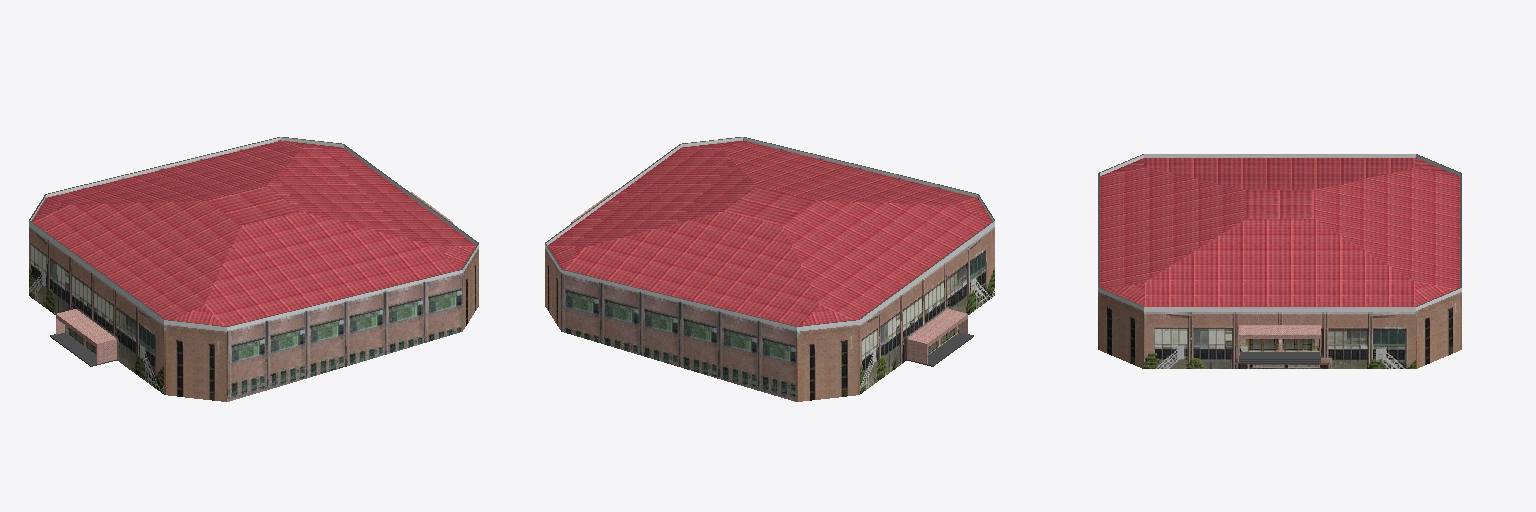
3 renders of one model, left to right at view 1: azimuth 30°, elevation 25°; view 2: azimuth 150°, elevation 25°; view 3: azimuth 270°, elevation 25°, orthographic.
Visible parts, largest first — view 1: VMtl1729, VMtl1249, VMtl1247, VMtl1730, VMtl1245, VMtl1253, VMtl1248, VMtl1252; view 2: VMtl1729, VMtl1249, VMtl1730, VMtl1247, VMtl1245, VMtl1253, VMtl1248, VMtl1252; view 3: VMtl1729, VMtl1247, VMtl1730, VMtl1245, VMtl1253, VMtl1251, VMtl1252, VMtl1248.
Part boxes in pixels (x1,y1,x2,y2): VMtl1729: (32, 141, 475, 325); VMtl1249: (45, 137, 462, 401); VMtl1247: (29, 146, 477, 393); VMtl1730: (48, 141, 302, 204); VMtl1245: (30, 137, 478, 401); VMtl1253: (56, 192, 452, 363); VMtl1248: (29, 137, 478, 326); VMtl1252: (50, 333, 116, 366); VMtl1729: (548, 141, 991, 325); VMtl1249: (561, 137, 978, 401); VMtl1730: (565, 211, 818, 325); VMtl1247: (546, 146, 994, 393); VMtl1245: (545, 137, 993, 401); VMtl1253: (571, 192, 967, 363); VMtl1248: (545, 137, 994, 326); VMtl1252: (907, 333, 973, 366); VMtl1729: (1100, 158, 1459, 306); VMtl1247: (1144, 154, 1415, 368); VMtl1730: (1314, 168, 1459, 289); VMtl1245: (1098, 155, 1461, 368); VMtl1253: (1239, 325, 1320, 355); VMtl1251: (1240, 339, 1319, 351); VMtl1252: (1239, 352, 1320, 363); VMtl1248: (1098, 154, 1461, 306).
Bounding box in the file's own units: 69.91 × 18.16 × 59.3.
Materials: 10 (5 with a texture image).